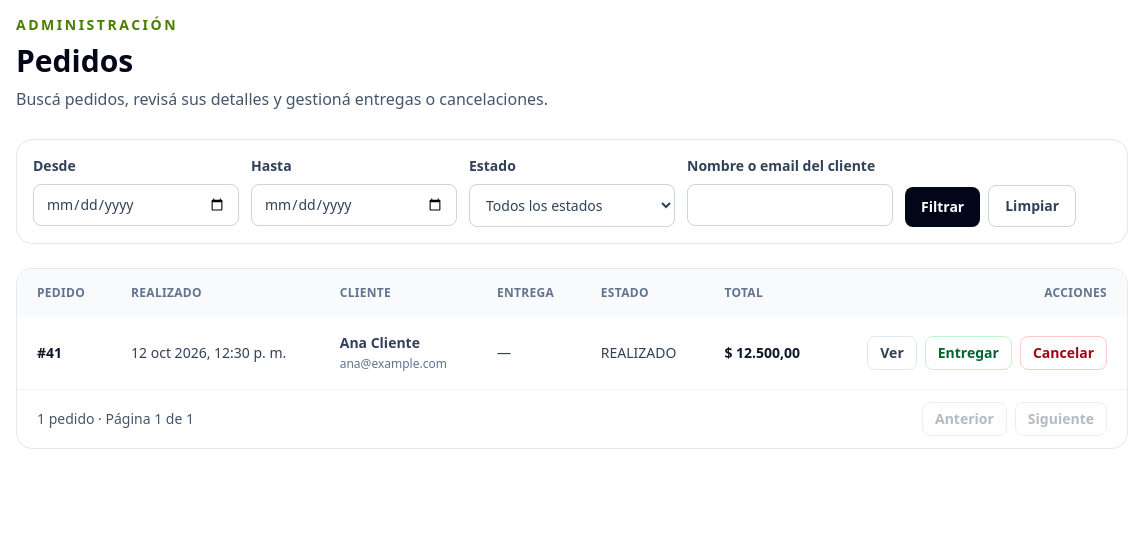
Test: consulta y gestión de pedidos › presenta el error de negocio de la API al intentar cancelar un pedido
Click the button "Cancelar" at [1063, 353], box [1020,336,1107,370]
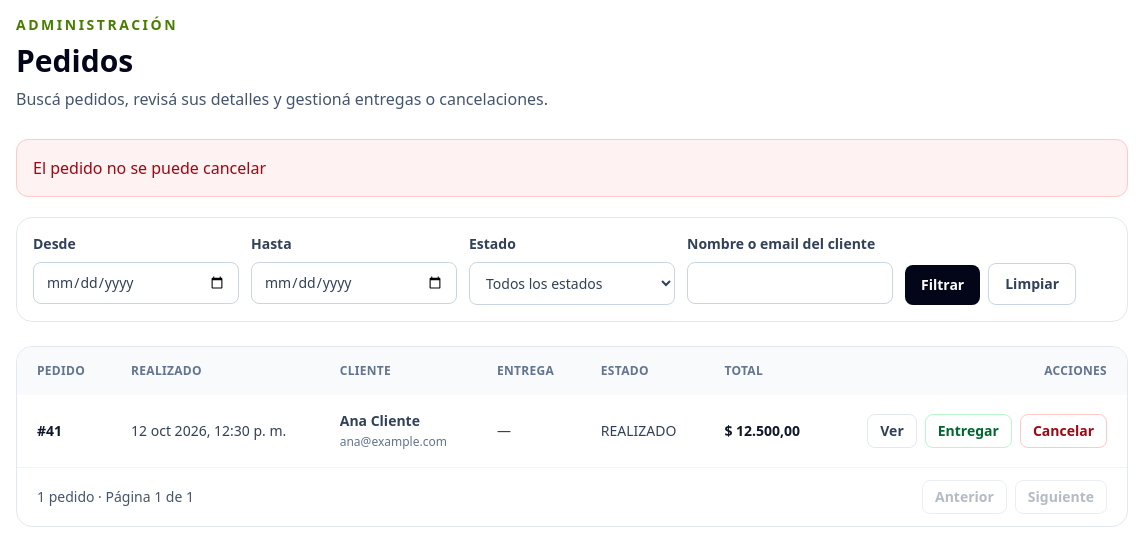
Check: the button "Entregar" is shown, box [925,414,1012,448]
Check: the message reads "El pedido no se puede cancelar", box [33,157,266,179]
